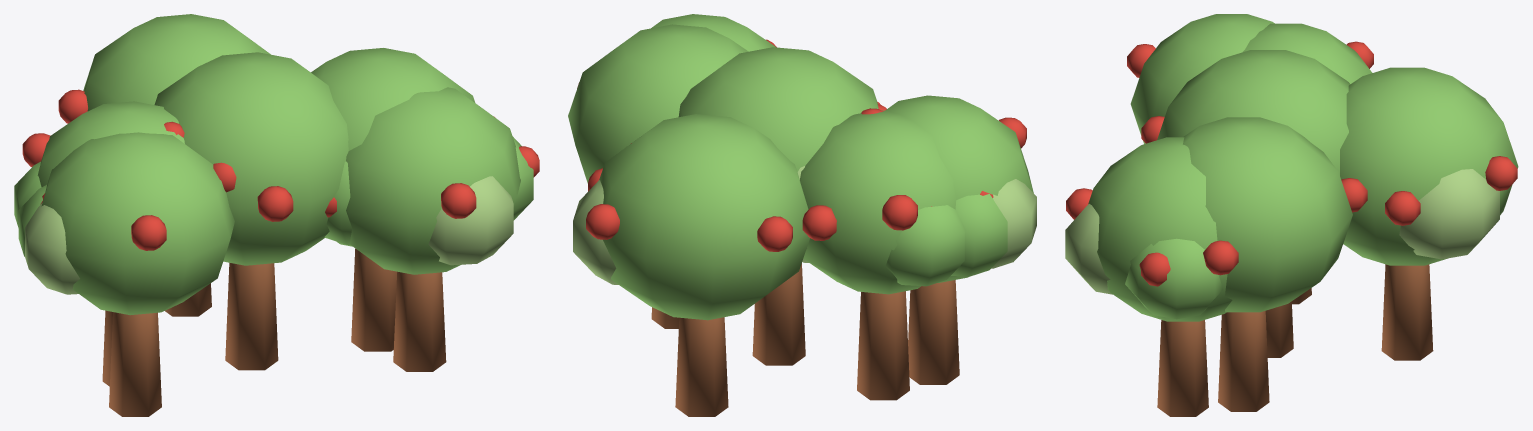
Rendered from apple_patch.glb.
The picture shows the model from 3 angles, left to right: view 1: azimuth 30°, elevation 25°; view 2: azimuth 150°, elevation 25°; view 3: azimuth 270°, elevation 25°; orthographic projection. The views are drawn at different scales.
Visible parts, largest first — view 1: apple_tree_3, apple_tree_1, apple_tree_2; view 2: apple_tree_3, apple_tree_2, apple_tree_1; view 3: apple_tree_3, apple_tree_2, apple_tree_1.
Boxes of the visible parts, box(x1,y1,x2,y2) form: apple_tree_3: box(18, 14, 539, 416); apple_tree_1: box(154, 52, 348, 370); apple_tree_2: box(14, 48, 495, 386); apple_tree_3: box(573, 14, 1036, 416); apple_tree_2: box(568, 24, 993, 400); apple_tree_1: box(678, 47, 883, 365); apple_tree_3: box(1065, 14, 1518, 416); apple_tree_2: box(1183, 23, 1373, 411); apple_tree_1: box(1141, 50, 1350, 357).
Size of the model in its own units: 1.73 by 1.05 by 1.49.
